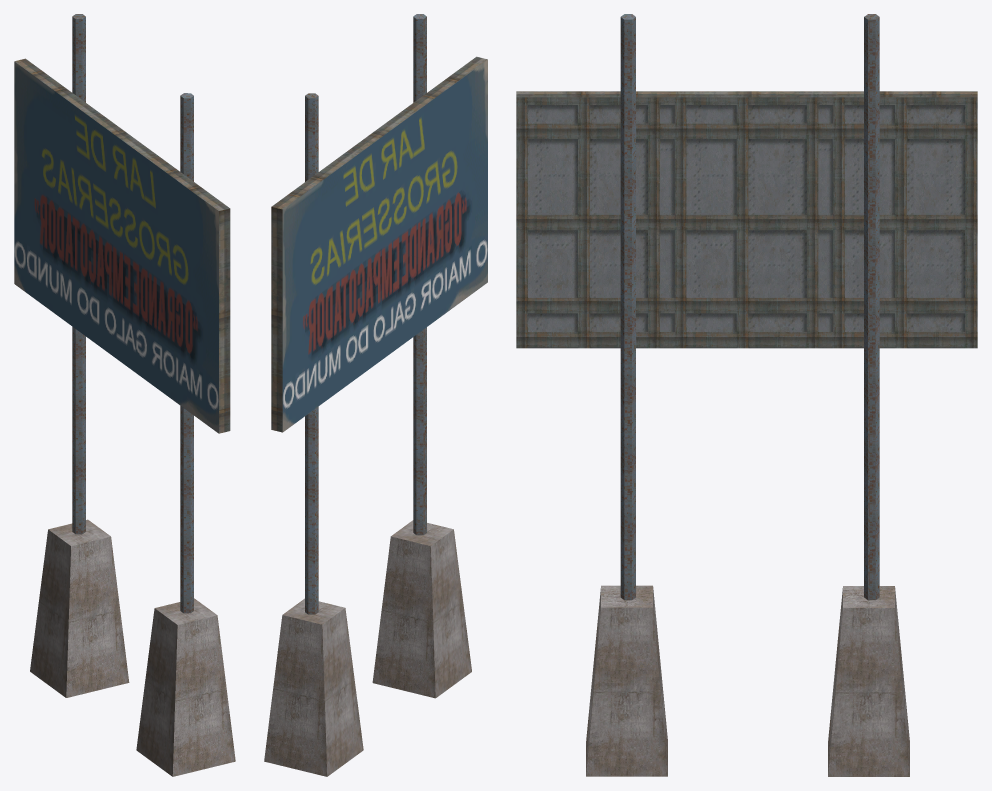
File: big_cock_sign.obj
3 renders of one model, left to right at view 1: azimuth 30°, elevation 25°; view 2: azimuth 150°, elevation 25°; view 3: azimuth 270°, elevation 25°, orthographic. The views are drawn at different scales.
Visible parts, largest first — view 1: BIG_COCK_SIGN; view 2: BIG_COCK_SIGN; view 3: BIG_COCK_SIGN.
Part boxes in pixels (x1,y1,x2,y2): BIG_COCK_SIGN: (14, 14, 235, 776); BIG_COCK_SIGN: (264, 14, 487, 776); BIG_COCK_SIGN: (516, 14, 977, 776).
Bounding box in the file's own units: 0.8113 × 8 × 4.5.
Materials: 5 (5 with a texture image).
